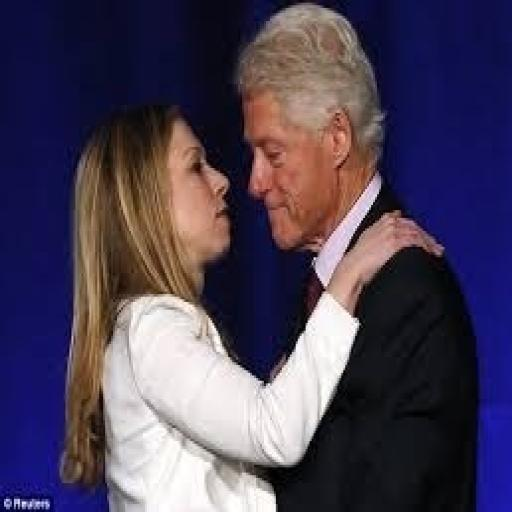hugging: (57, 0, 482, 509)
